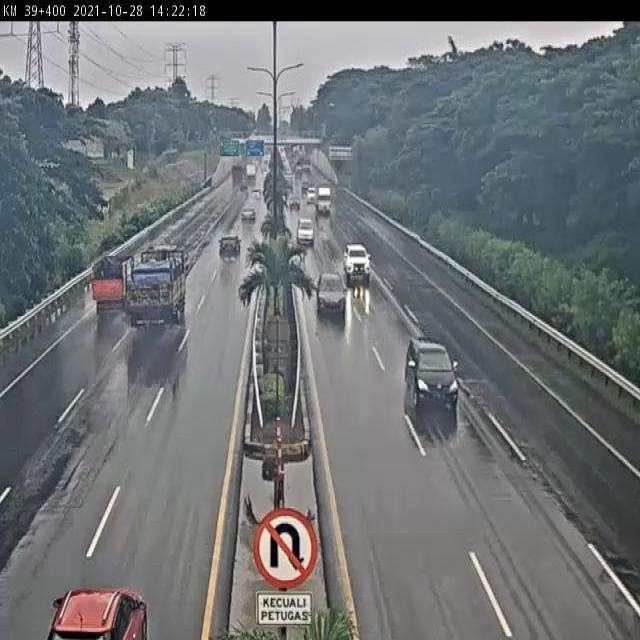car: (400, 336, 461, 411), (314, 272, 351, 321), (343, 241, 374, 283), (296, 216, 317, 248)
truck-l-: (122, 247, 191, 331)
truck-s-: (89, 255, 134, 313)
